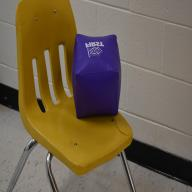cube: (71, 33, 122, 119)
